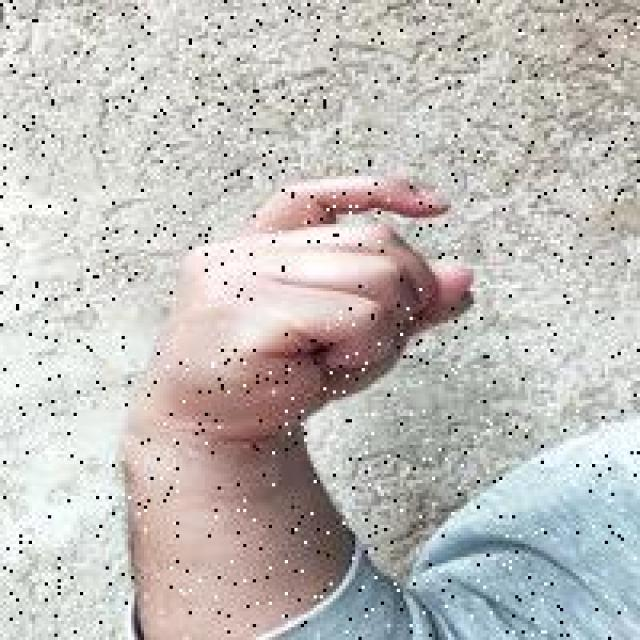X: (150, 168, 487, 427)
